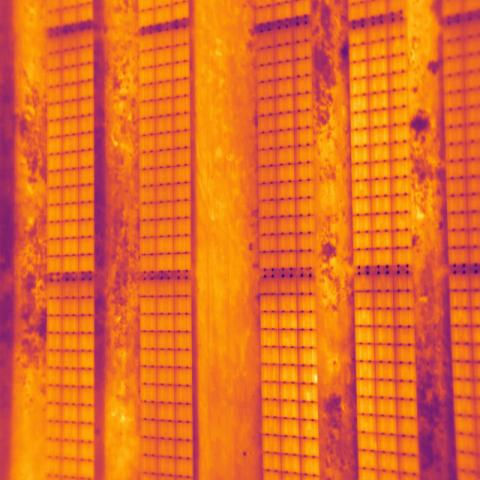fault: (313, 374, 318, 384)
